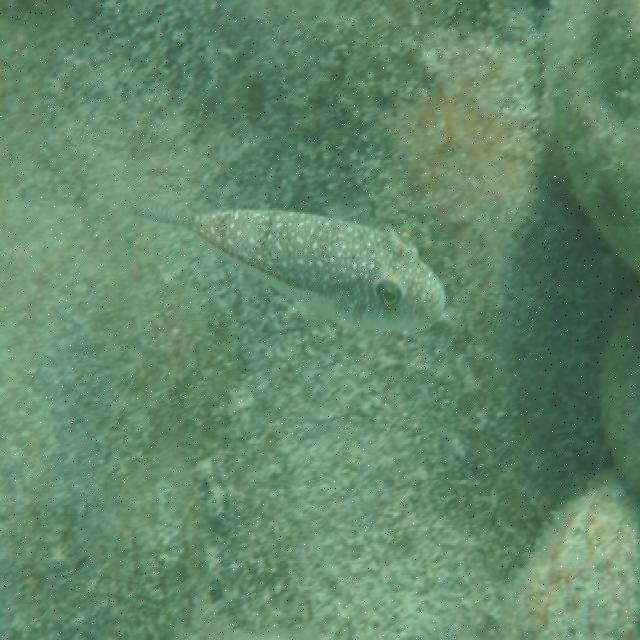Balik: (139, 211, 445, 330)
